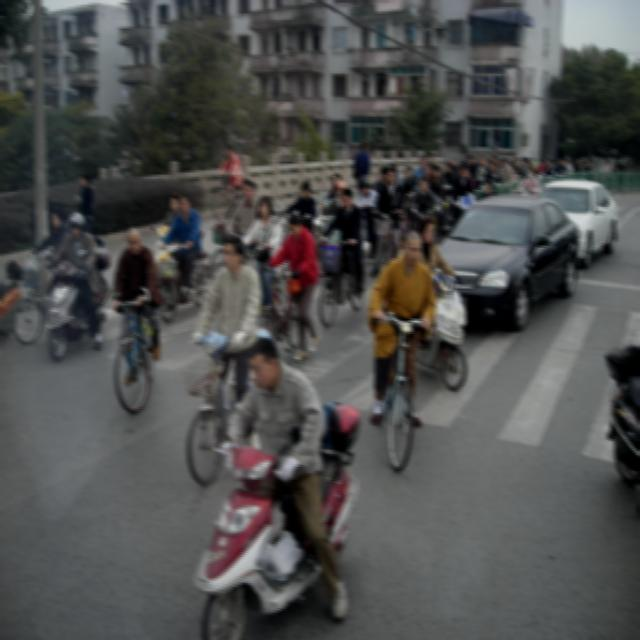With Helmet: (66, 210, 86, 237)
Without Helmet: (397, 226, 429, 266), (219, 228, 246, 272), (121, 223, 151, 262), (339, 185, 356, 212)
